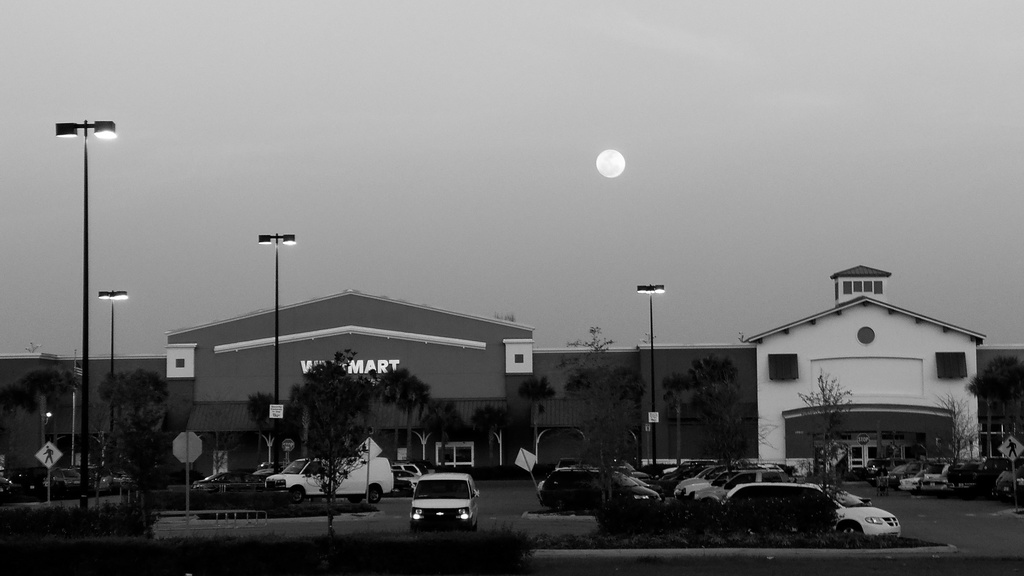Car: (532, 455, 902, 539), (191, 451, 418, 504), (867, 451, 1023, 499), (392, 465, 485, 529), (0, 463, 140, 502)
